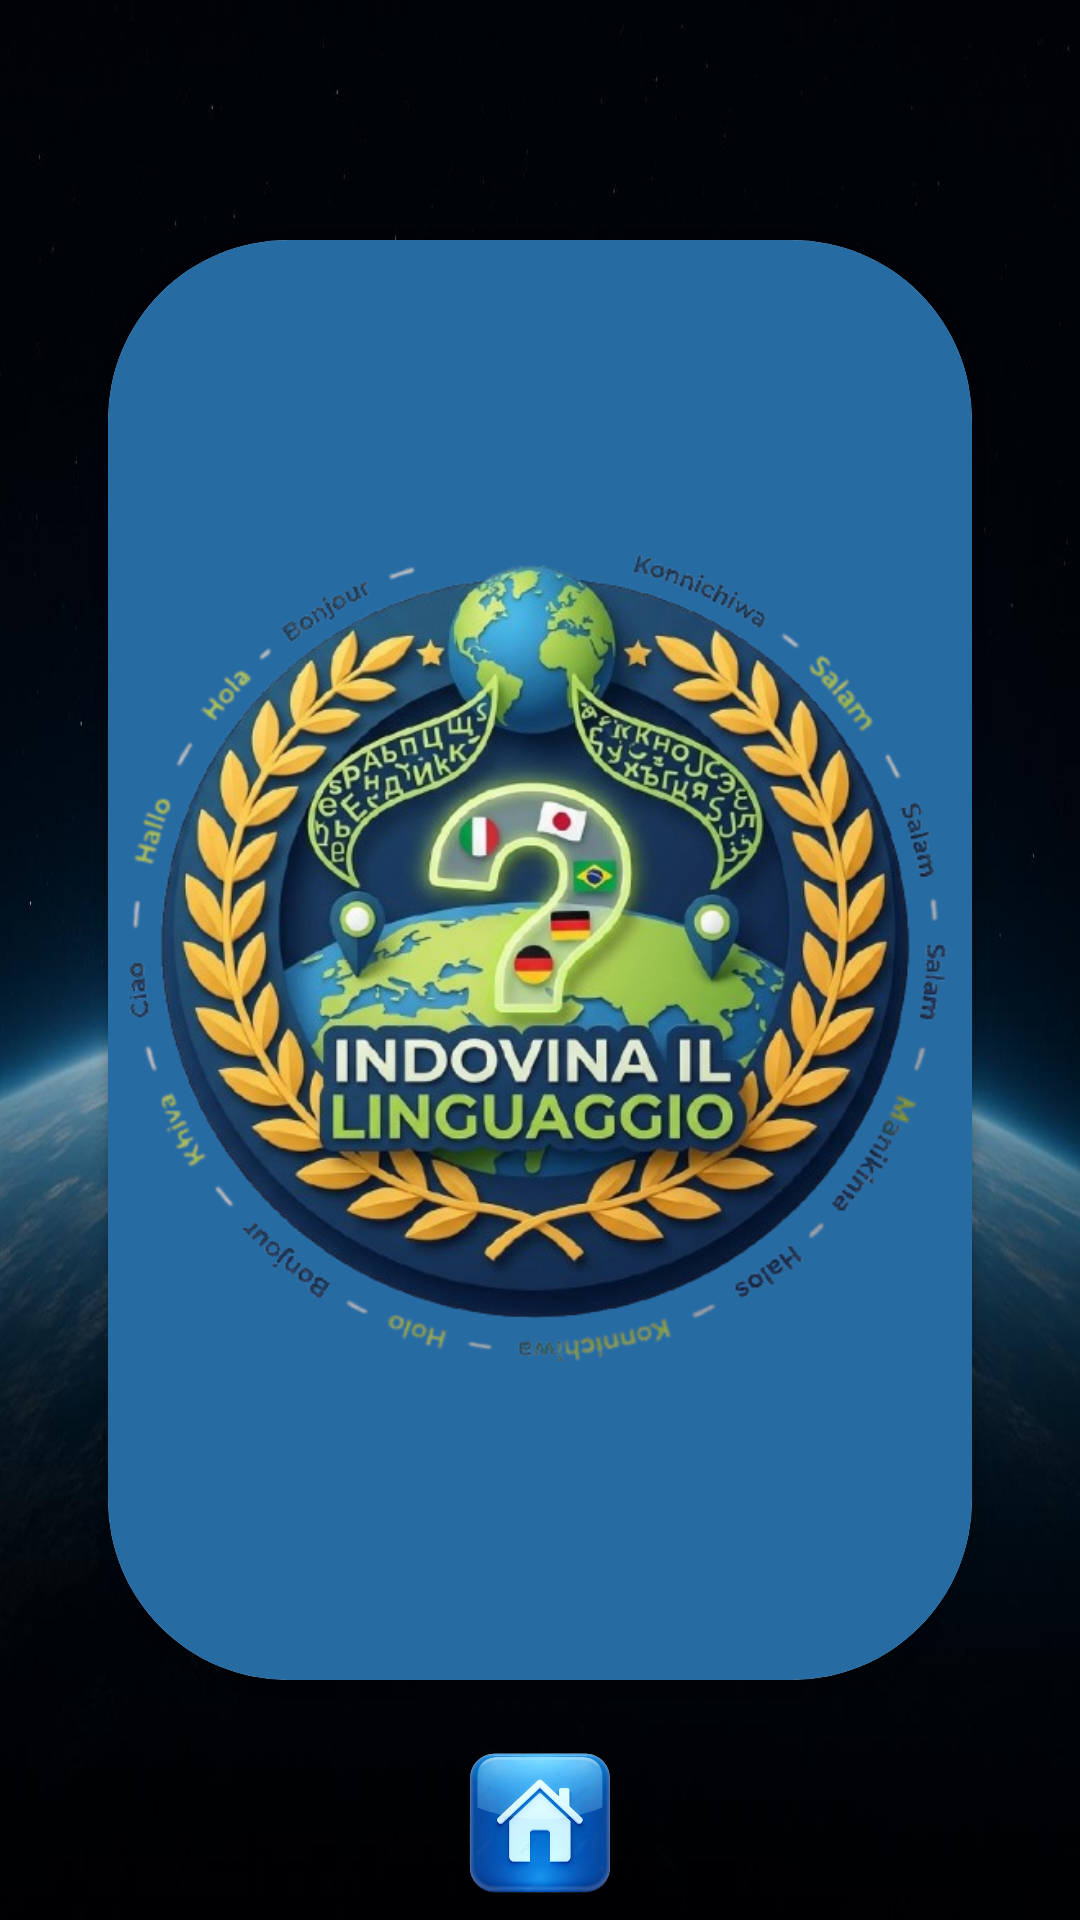

Named icons in this screenshot (1080w x 1920h) and their centers, (x,y):
immagine home: (540,1823)
